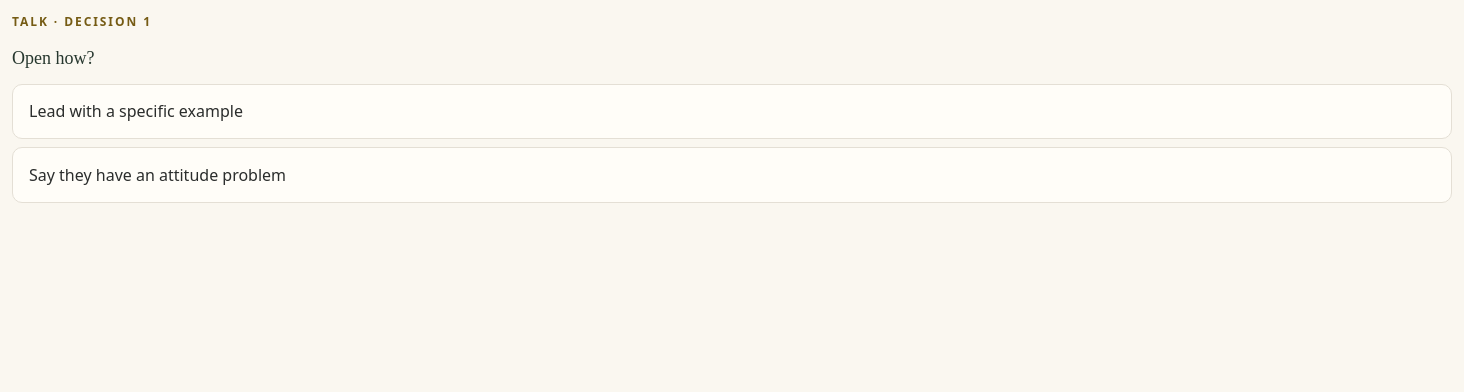
it: branching scenarios › produces different replies, coaching and endings for different choices
Later steps or results of the test are not shown.
Click the button "Lead with a specific example": (136, 111) [12,84,1452,139]
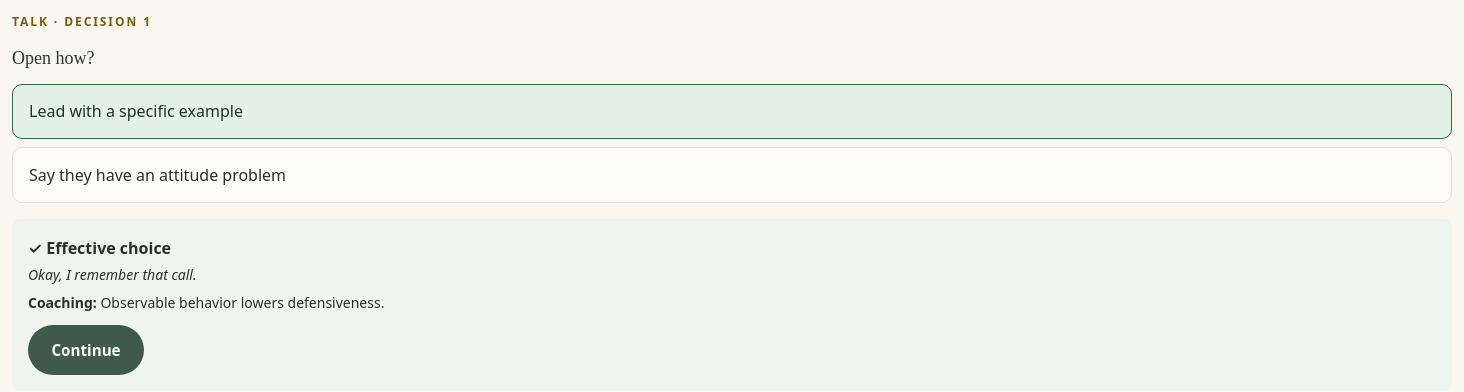
Expected: the text "Coaching: Observable behavior lowers defensiveness." is shown, [28,293,384,312]
Click the button "Continue": (86, 350) [28,325,144,375]
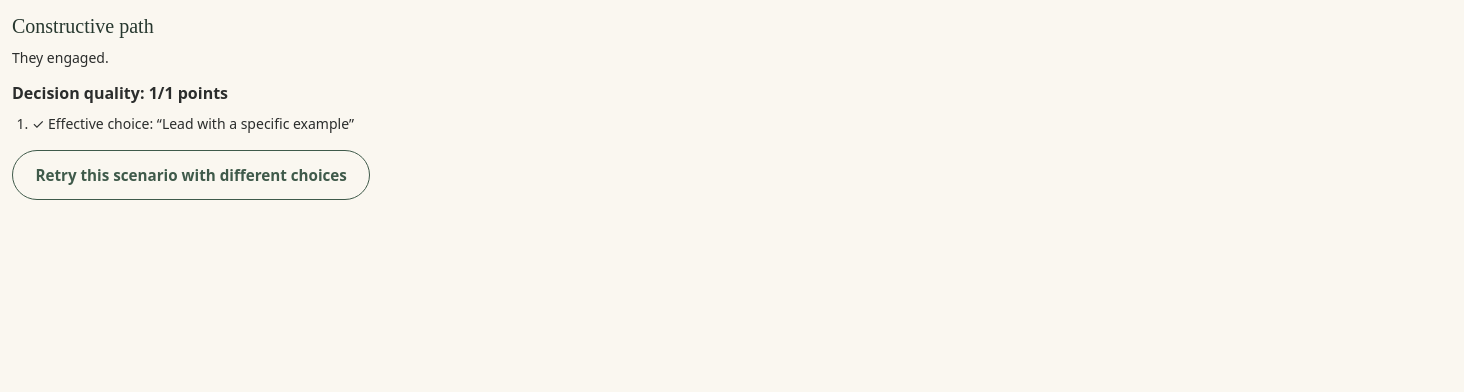
Expected: the heading "Constructive path" is shown, [12,15,154,37]
